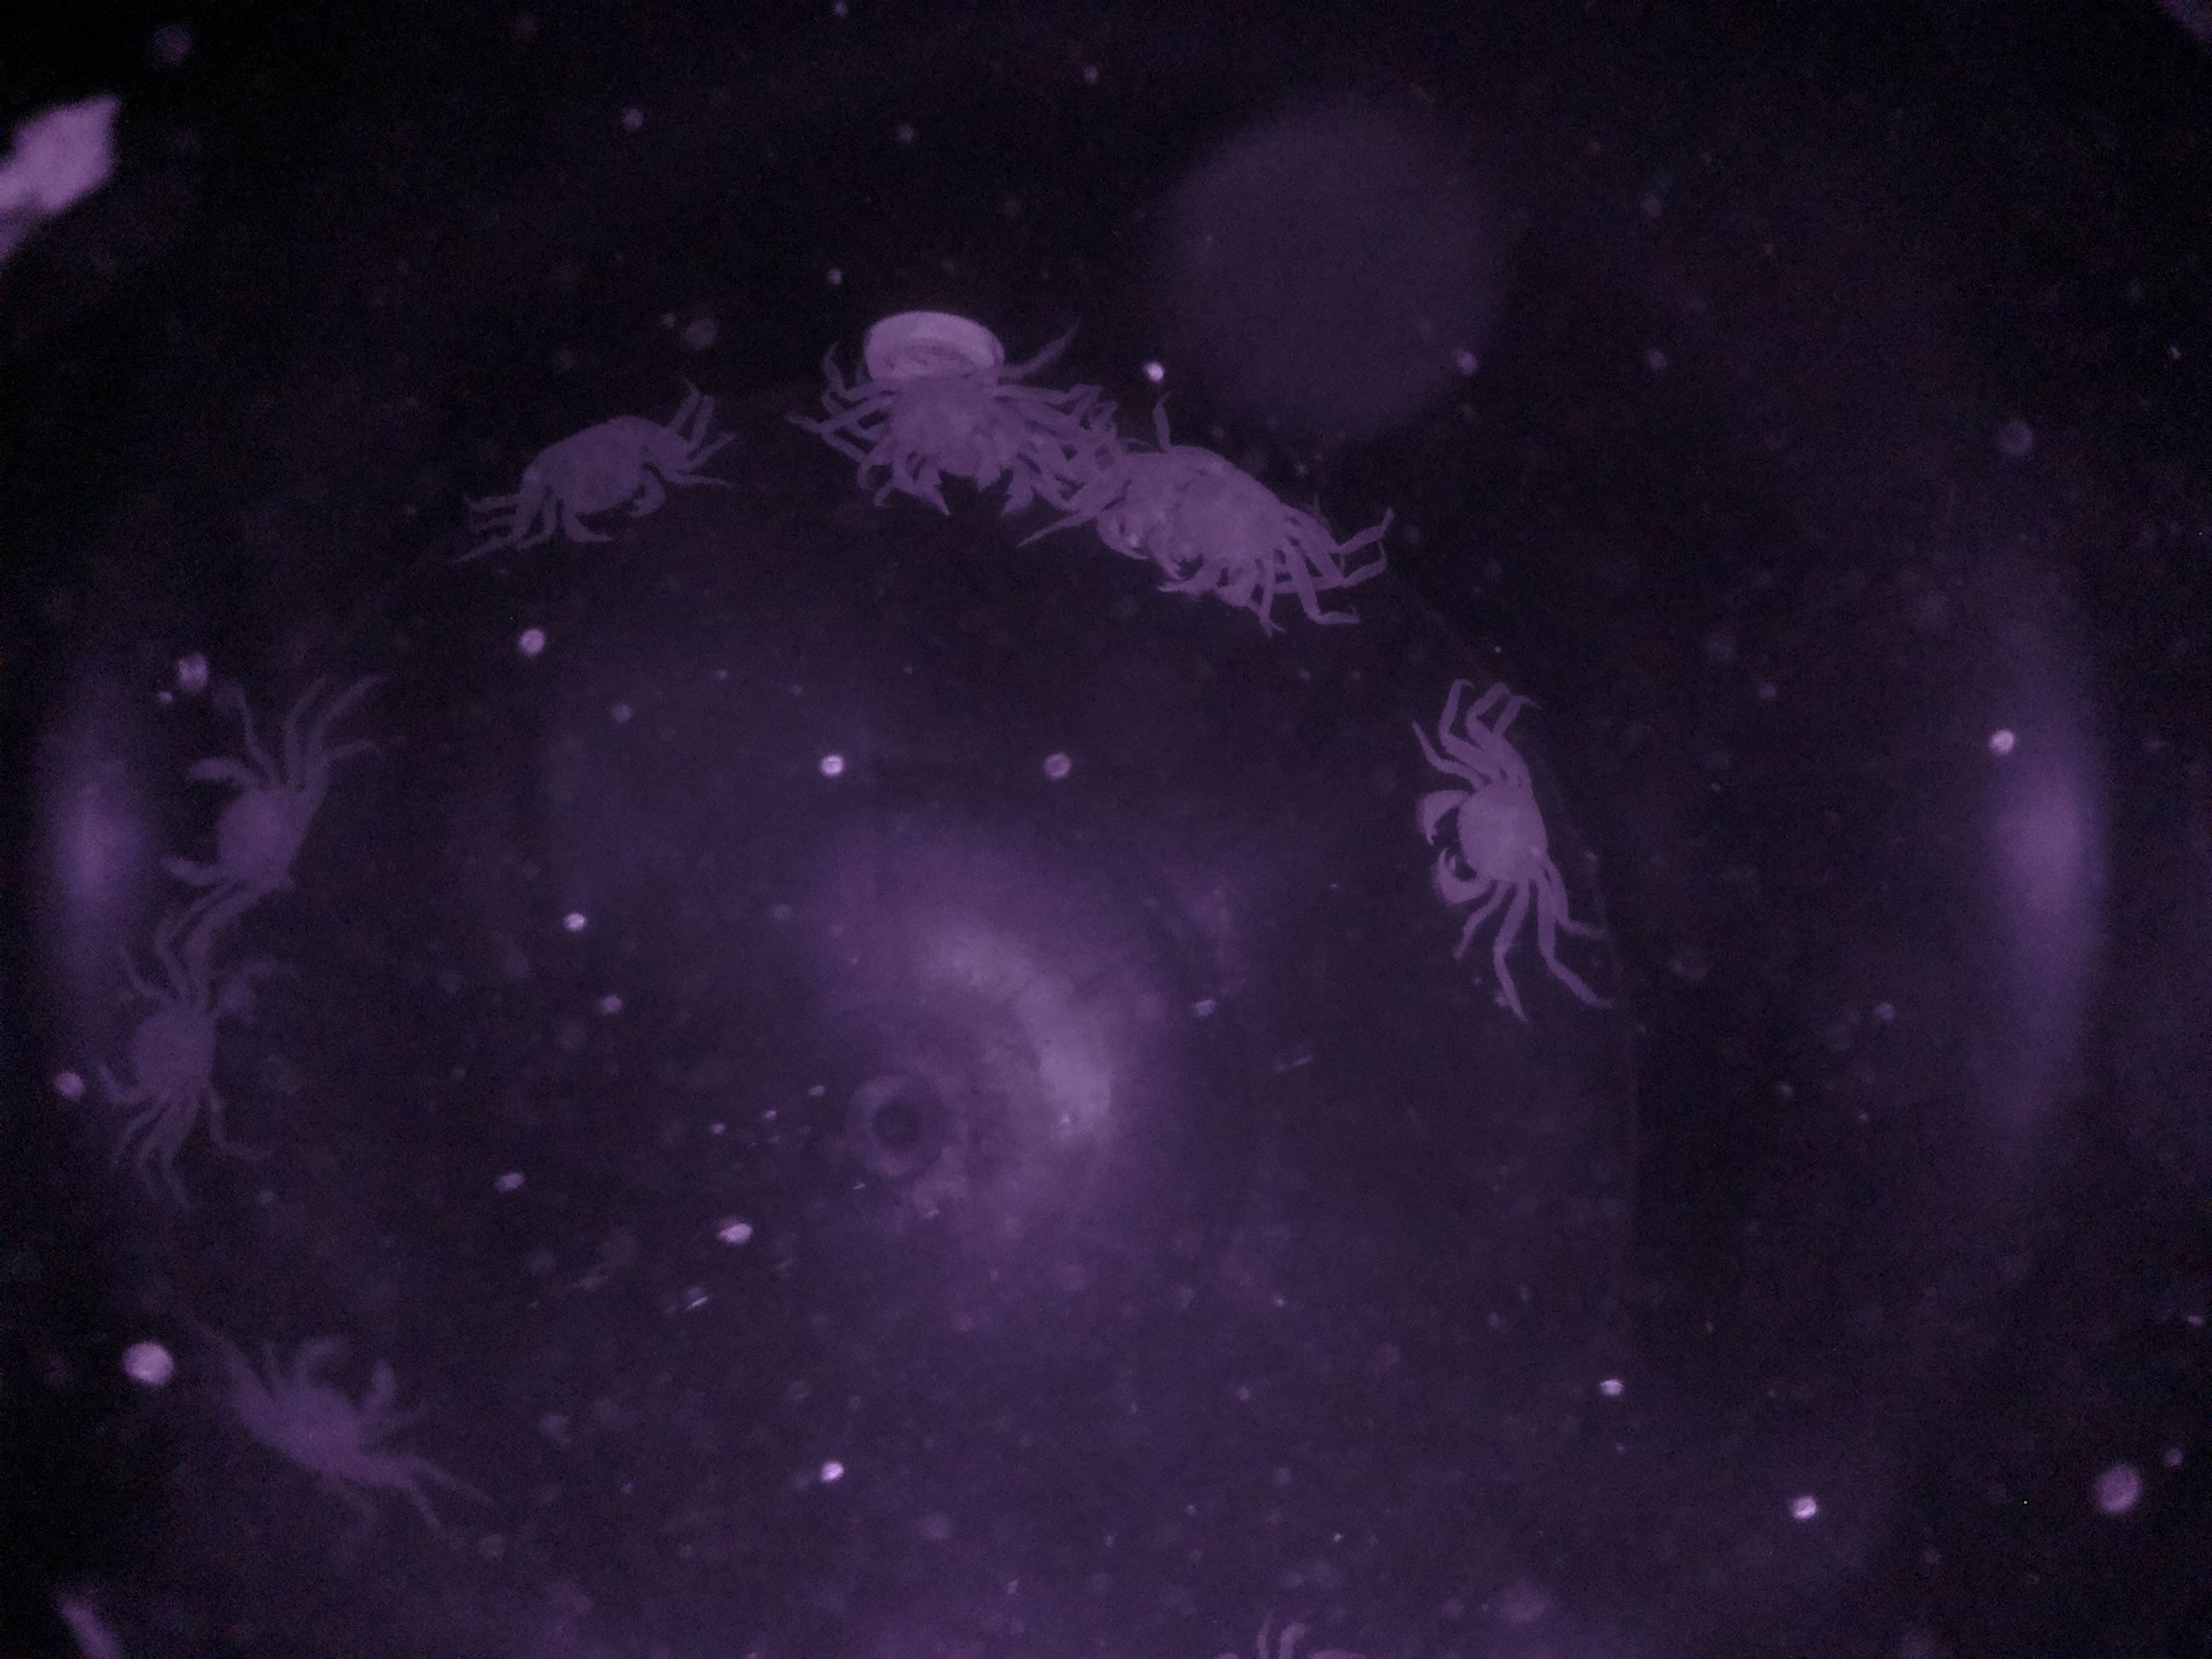Crab: (1407, 739, 1606, 957), (61, 936, 256, 1131), (502, 394, 709, 572)
